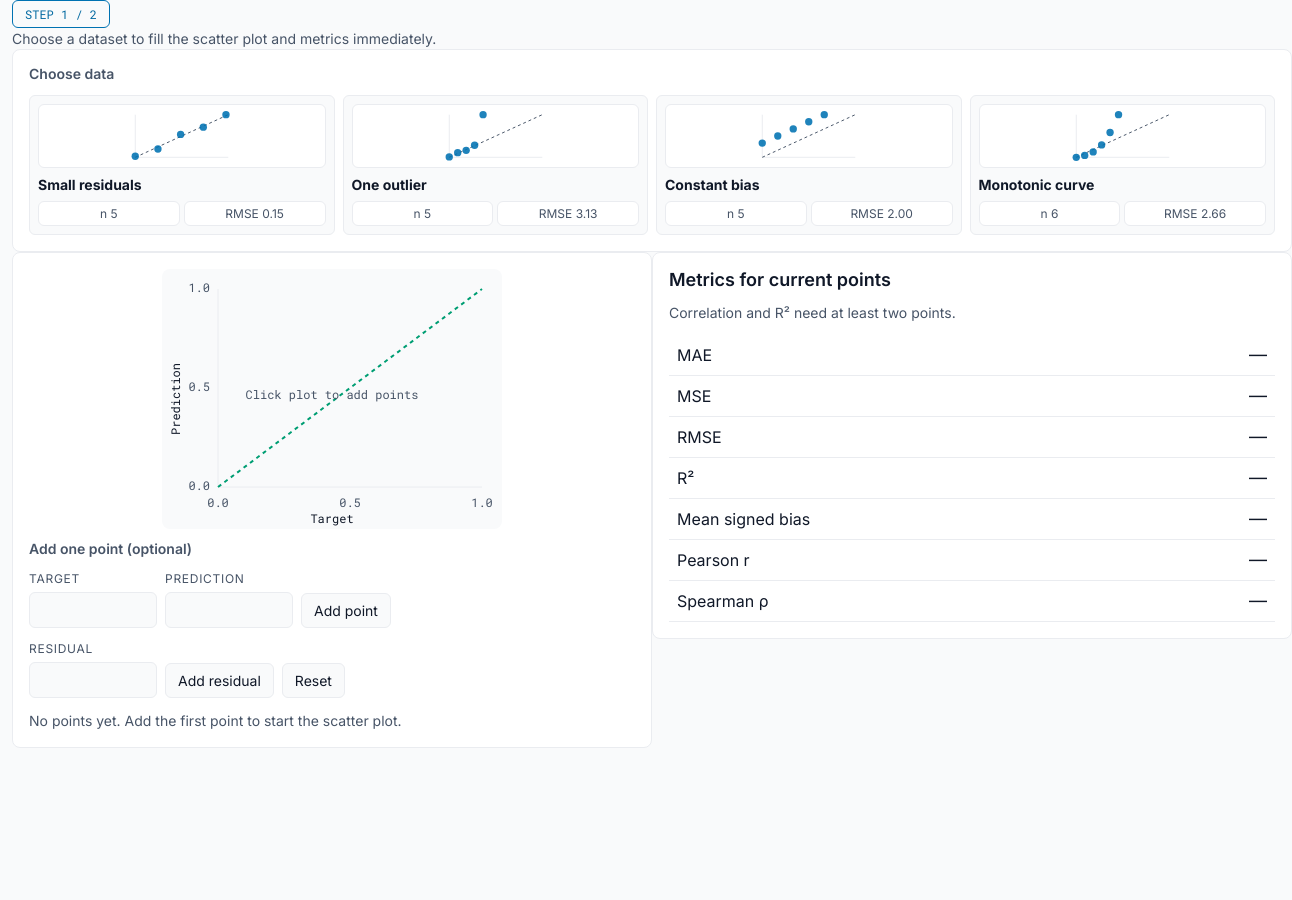
RegressionPlayground › shows presets immediately and loads one into the workspace
What coordinates should you click on to do the following:
click the button "One outlier n 5 RMSE 3.13"
I would click on:
 (495, 165)
Its box is top-left (342, 95), bottom-right (648, 235).
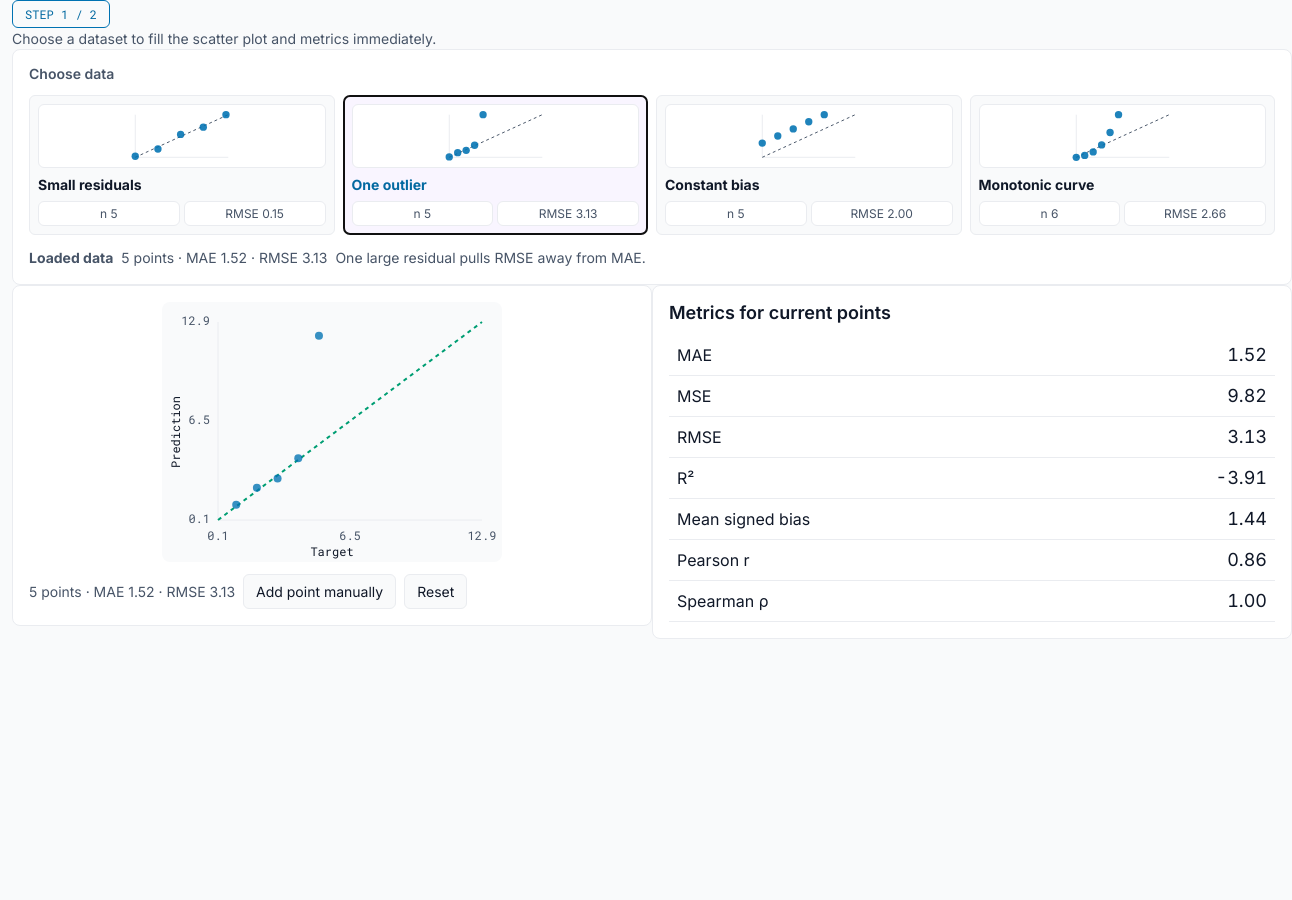
Check: the text "One large residual pulls RMSE away from MAE." is shown, box top-left (335, 247), bottom-right (646, 268)
Check: the text "5 points · MAE 1.52 · RMSE 3.13" is shown 2 times, box top-left (121, 247), bottom-right (327, 268); top-left (29, 581), bottom-right (235, 602)
Check: the heading "Add one point (optional)" is gone
